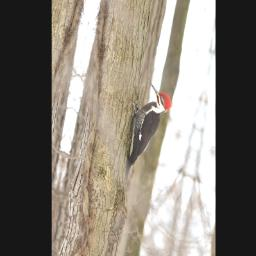Woodpecker: (115, 75, 175, 200)
